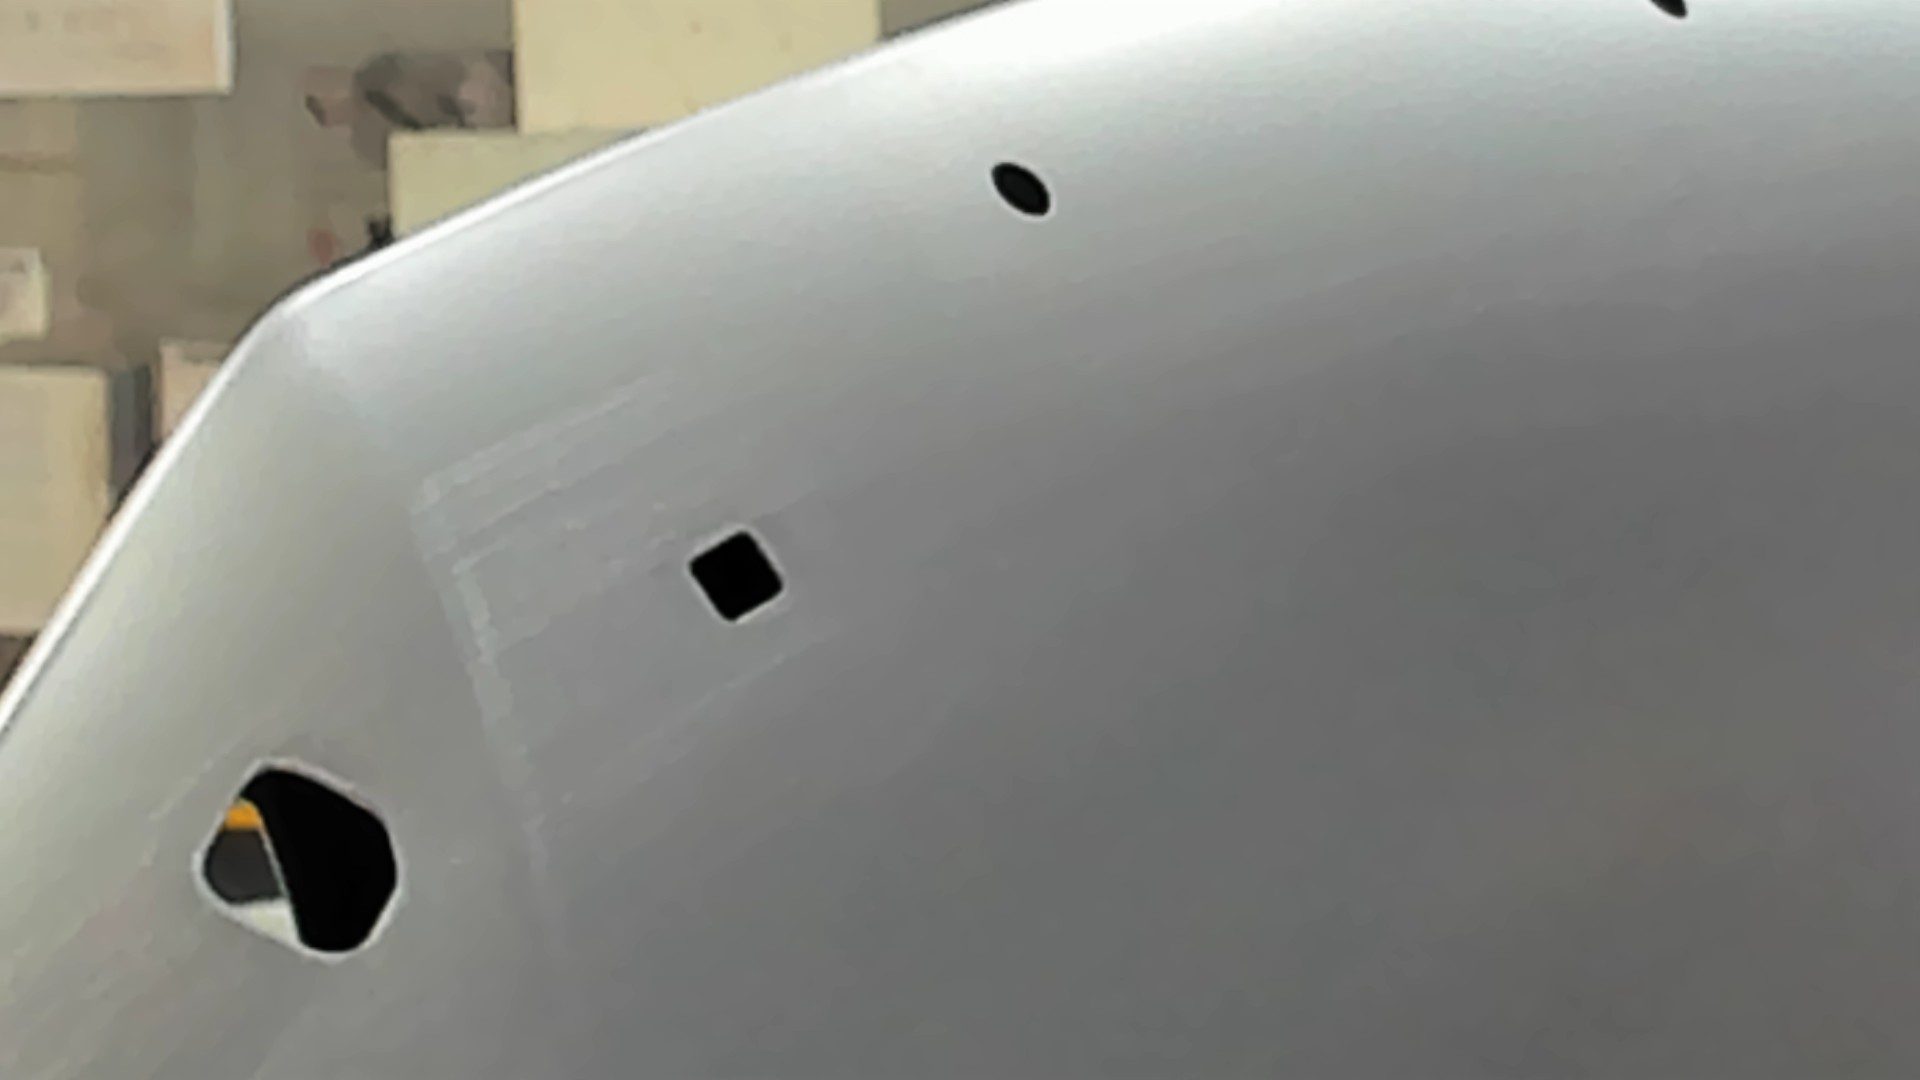chico: (984, 158, 1056, 222), (1647, 1, 1692, 24)
grande: (195, 754, 404, 963)
mediano: (684, 524, 791, 628)
